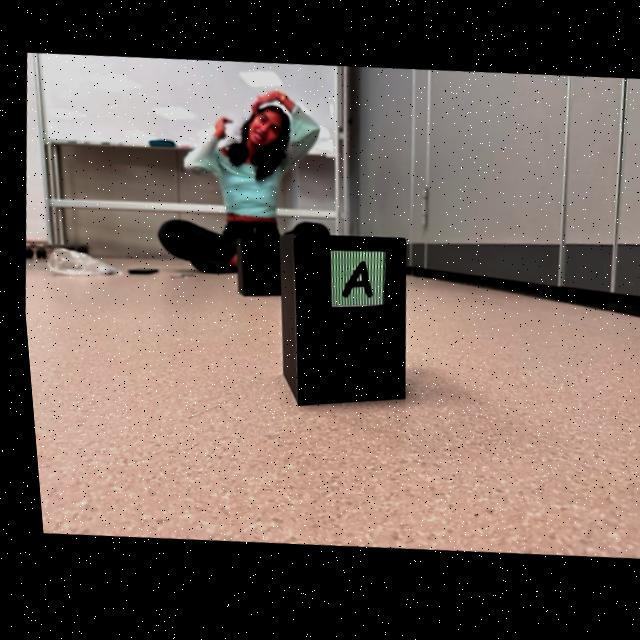A: (338, 264, 366, 299)
